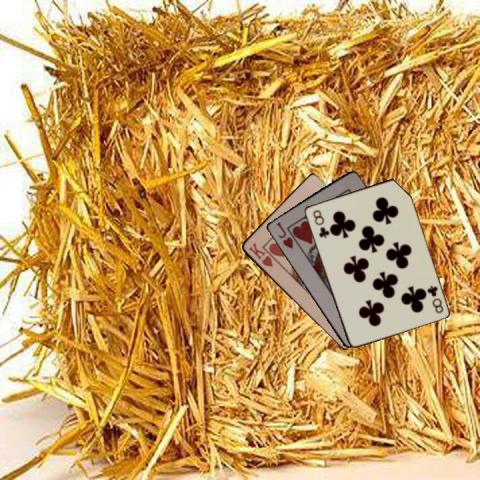8c: (424, 282, 445, 314), (310, 207, 330, 239)
Jh: (273, 219, 294, 250)
Kh: (245, 240, 274, 268)
